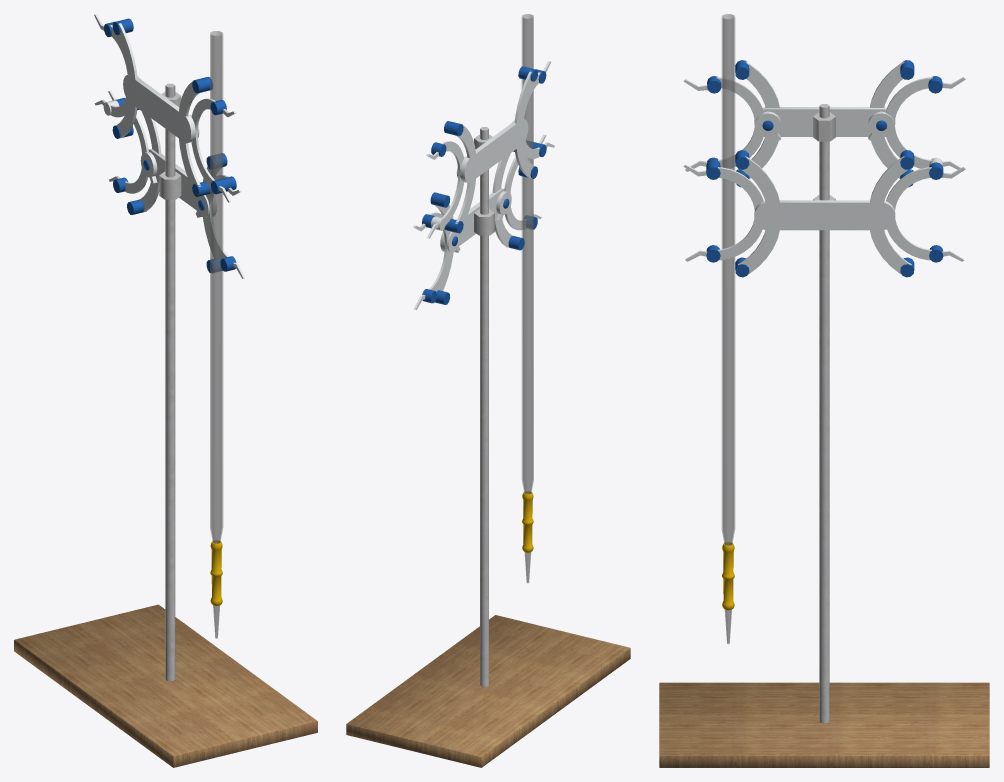
File: SM_酸式滴定管组合.fbx
3 renders of one model, left to right at view 1: azimuth 30°, elevation 25°; view 2: azimuth 150°, elevation 25°; view 3: azimuth 270°, elevation 25°, orthographic. The views are drawn at different scales.
Visible parts, largest first — view 1: SM_酸式滴定管组合; view 2: SM_酸式滴定管组合; view 3: SM_酸式滴定管组合.
Boxes of the visible parts, x1,y1,x2,y2 form: SM_酸式滴定管组合: (14, 14, 317, 767); SM_酸式滴定管组合: (346, 14, 630, 767); SM_酸式滴定管组合: (659, 14, 989, 767).
Bounding box in the file's own units: 0.1798 × 0.8196 × 0.3425.
